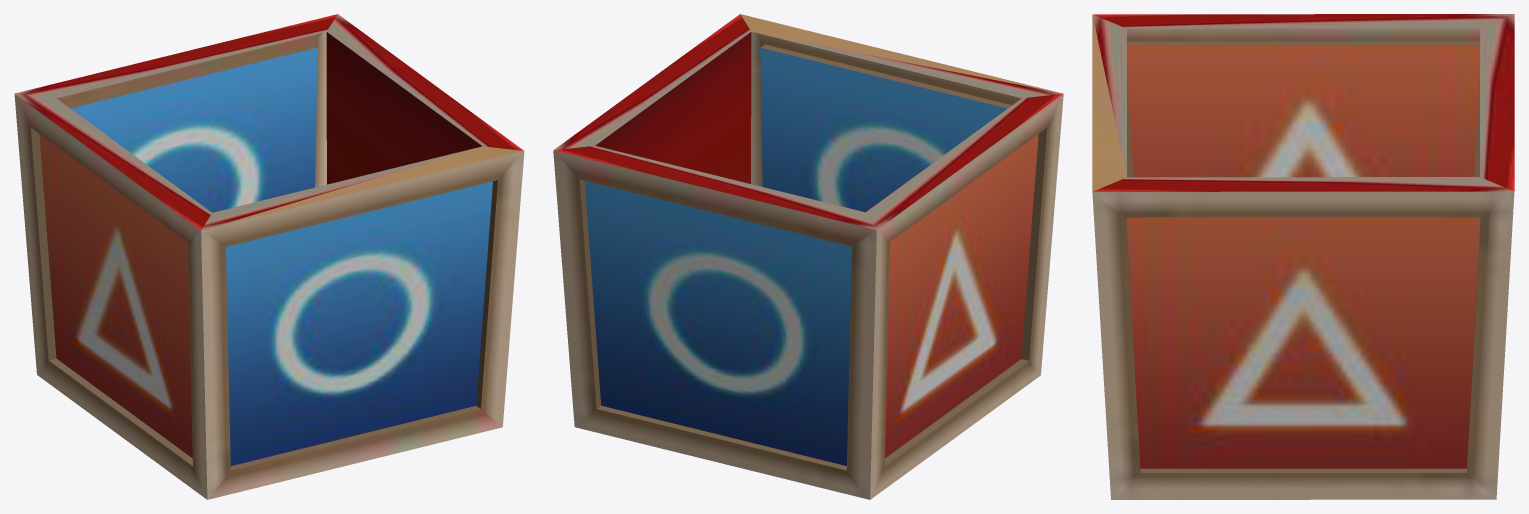
The model's file is mysterybox.fbx.
3 renders of one model, left to right at view 1: azimuth 30°, elevation 25°; view 2: azimuth 150°, elevation 25°; view 3: azimuth 270°, elevation 25°, orthographic. The views are drawn at different scales.
Visible parts, largest first — view 1: box; view 2: box; view 3: box.
Part boxes in pixels (x1,y1,x2,y2): box: (14,14,524,499); box: (553,14,1063,499); box: (1092,14,1514,499).
Bounding box in the file's own units: 23.7 × 19.61 × 23.7.
